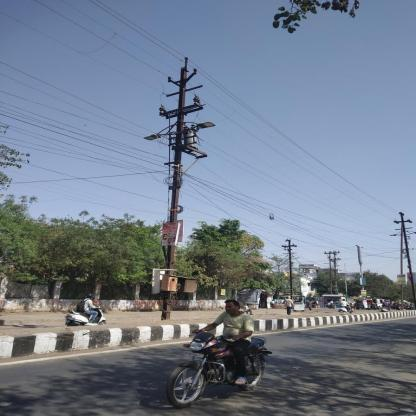Electrical Pole: (132, 51, 217, 321)
